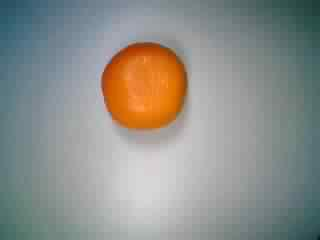orange: (98, 40, 193, 134)
